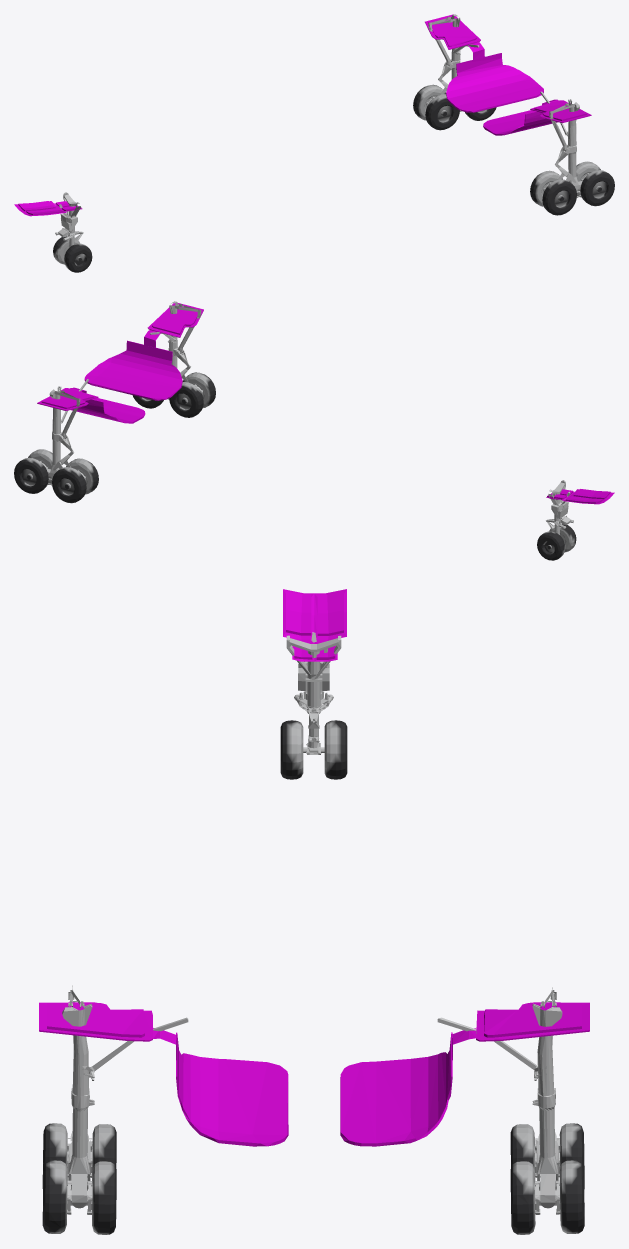
File: a330.gear.glb
The picture shows the model from 3 angles, top to bottom: view 1: azimuth 30°, elevation 25°; view 2: azimuth 150°, elevation 25°; view 3: azimuth 270°, elevation 25°; orthographic projection. The views are drawn at different scales.
Visible parts, largest first — view 1: gear; view 2: gear; view 3: gear.
Part boxes in pixels (x1,y1,x2,y2): gear: [14, 14, 614, 272]; gear: [14, 301, 614, 560]; gear: [39, 589, 589, 1234].
Bounding box in the file's own units: 26.37 × 4.92 × 11.79.
